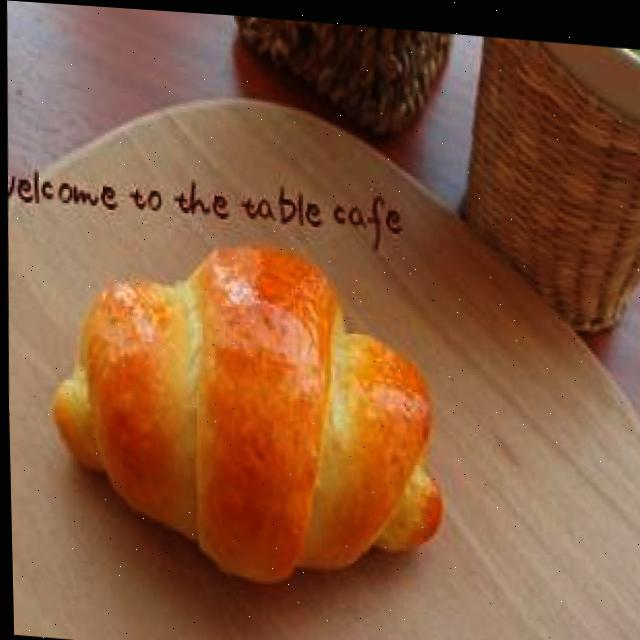面包点心: (36, 210, 452, 601)
